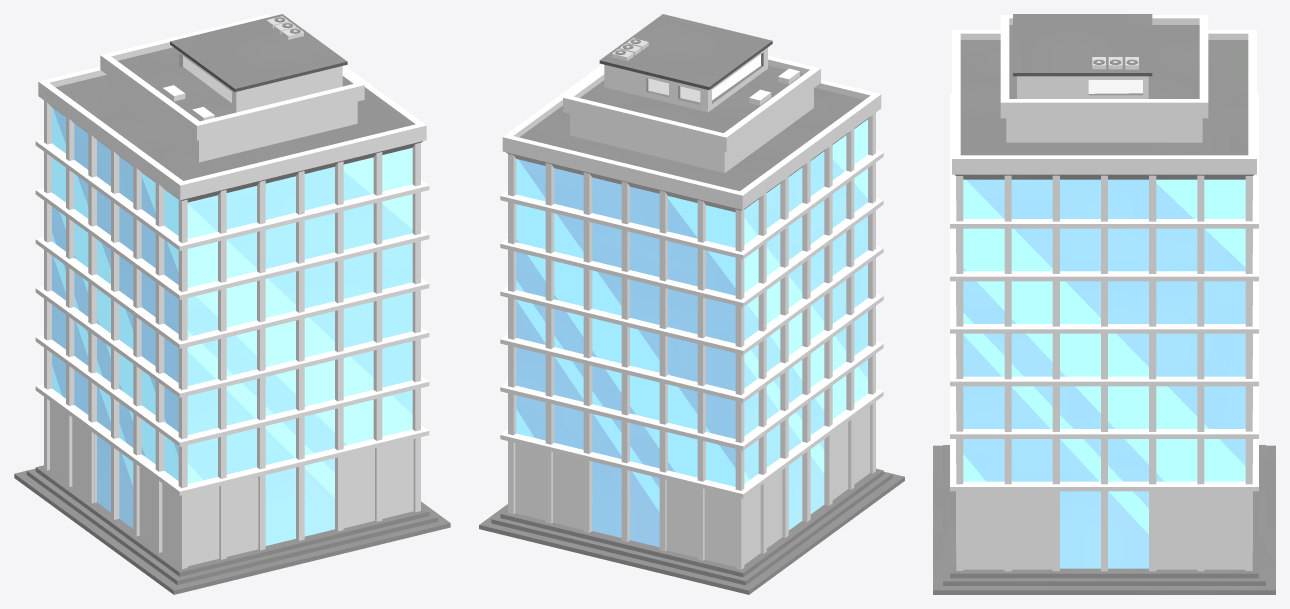
Rendered from business centers.005.glb.
3 views of the same model, side by side, from view 1: azimuth 30°, elevation 25°; view 2: azimuth 150°, elevation 25°; view 3: azimuth 270°, elevation 25° (orthographic). The views are drawn at different scales.
Visible parts, largest first — view 1: business centers.005(Clone); view 2: business centers.005(Clone); view 3: business centers.005(Clone).
Boxes of the visible parts, x1=… form: business centers.005(Clone): x1=14, y1=14, x2=450, y2=594; business centers.005(Clone): x1=479, y1=14, x2=904, y2=594; business centers.005(Clone): x1=933, y1=14, x2=1275, y2=594.
Size of the model in its own units: 14.08 by 22.31 by 14.08.
Materials: 1 (1 with a texture image).
